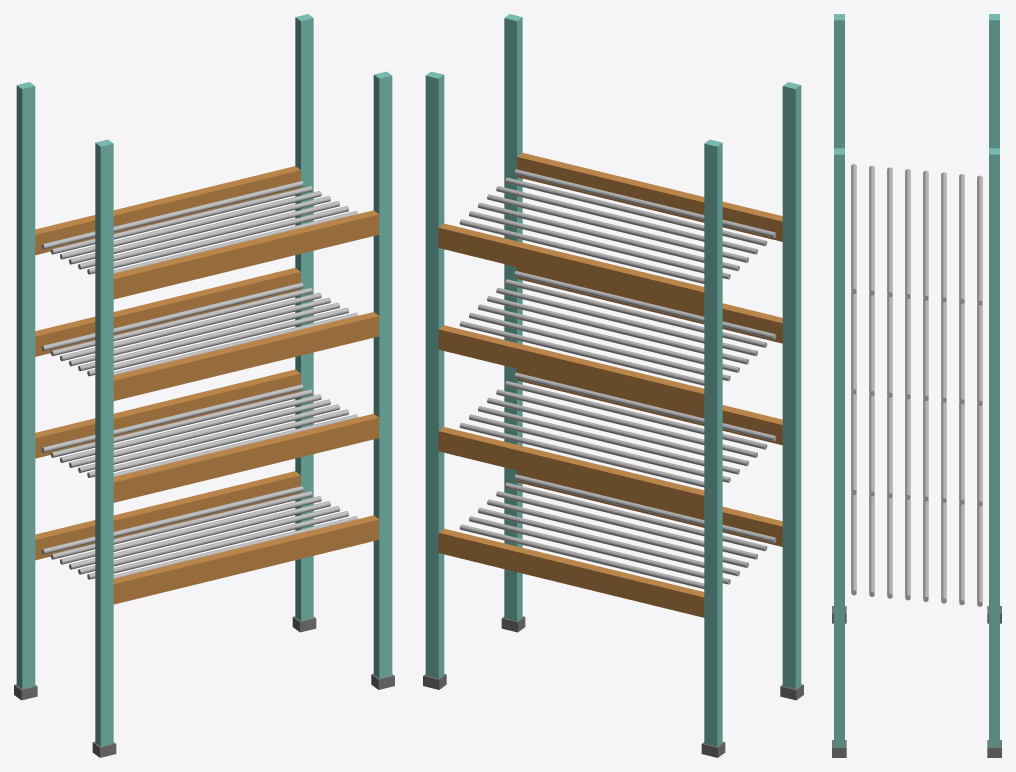
The model's file is shelf-flow-4level.glb.
3 views of the same model, side by side, from view 1: azimuth 30°, elevation 25°; view 2: azimuth 150°, elevation 25°; view 3: azimuth 270°, elevation 25° (orthographic).
Visible parts, largest first — view 1: upright_2, upright_1, upright_0, beam_back_1, beam_back_2, beam_back_4, beam_back_3, upright_3, beam_front_2, beam_front_1, beam_front_3, beam_front_4 (+28 smaller); view 2: upright_0, upright_3, upright_2, beam_front_4, beam_front_1, beam_front_2, beam_front_3, upright_1, beam_back_4, beam_back_3, beam_back_1, beam_back_2 (+28 smaller); view 3: upright_1, upright_3, upright_0, upright_2, roller_4_1, roller_4_2, roller_4_4, roller_4_5, roller_4_0, roller_4_3, roller_4_6, roller_4_7 (+24 smaller).
Part boxes in pixels (x1,y1,x2,y2): upright_2: (16, 82, 35, 689); upright_1: (373, 71, 392, 678); upright_0: (95, 139, 113, 746); beam_back_1: (113, 515, 379, 604); beam_back_2: (113, 413, 379, 502); beam_back_4: (113, 210, 379, 299); beam_back_3: (113, 312, 379, 400); upright_3: (295, 14, 313, 620); beam_front_2: (35, 369, 300, 458); beam_front_1: (35, 471, 300, 560); beam_front_3: (35, 268, 300, 356); beam_front_4: (35, 166, 300, 254); upright_0: (782, 82, 801, 689); upright_3: (425, 71, 444, 678); upright_2: (704, 139, 722, 746); beam_front_4: (438, 223, 704, 312); beam_front_1: (438, 528, 704, 617); beam_front_2: (438, 427, 704, 515); beam_front_3: (438, 325, 704, 414); upright_1: (504, 14, 522, 620); beam_back_4: (517, 153, 782, 241); beam_back_3: (517, 267, 782, 343); beam_back_1: (517, 470, 782, 546); beam_back_2: (517, 369, 782, 445); upright_1: (834, 148, 844, 747); upright_3: (989, 148, 999, 747); upright_0: (834, 14, 844, 148); upright_2: (989, 14, 999, 148); roller_4_1: (869, 165, 874, 295); roller_4_2: (887, 167, 892, 297); roller_4_4: (923, 170, 928, 300); roller_4_5: (941, 172, 946, 302); roller_4_0: (851, 164, 856, 293); roller_4_3: (905, 169, 910, 298); roller_4_6: (959, 174, 964, 303); roller_4_7: (977, 175, 982, 305).
Size of the model in its own units: 910 by 1800 by 460.
